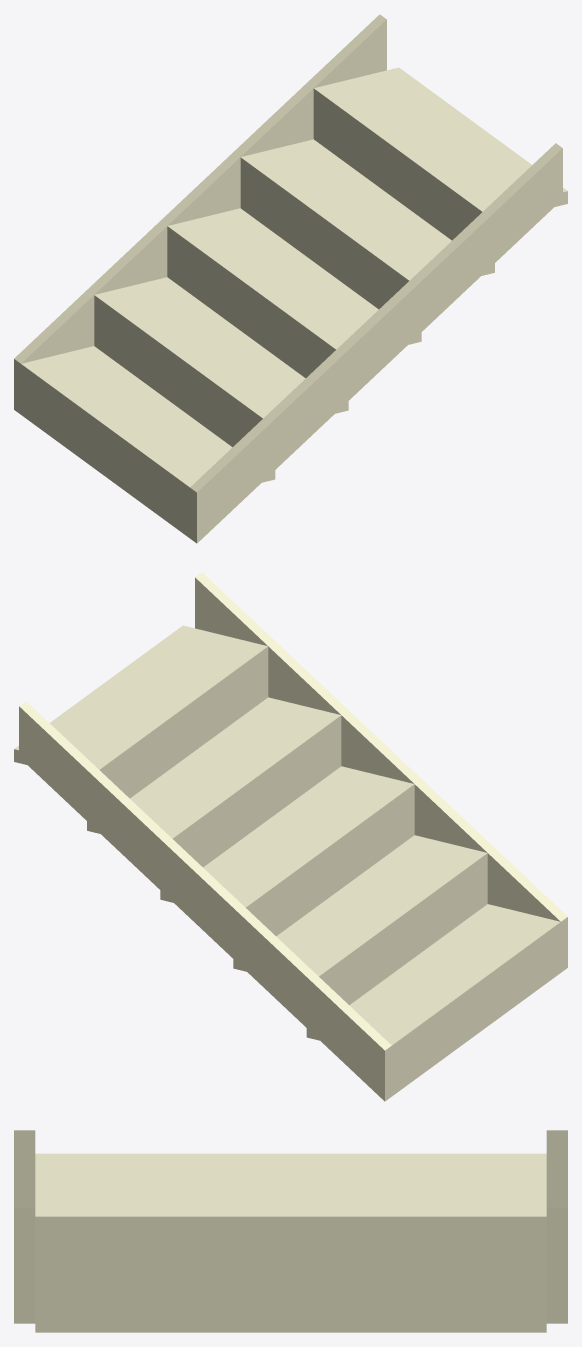
The model's file is Stairs_Box.glb.
3 renders of one model, top to bottom at view 1: azimuth 30°, elevation 25°; view 2: azimuth 150°, elevation 25°; view 3: azimuth 270°, elevation 25°, orthographic. The views are drawn at different scales.
Parts seen in each view (by area): view 1: Stairs Box; view 2: Stairs Box; view 3: Stairs Box.
Part boxes in pixels (x1,y1,x2,y2): Stairs Box: [14, 14, 567, 543]; Stairs Box: [14, 572, 567, 1101]; Stairs Box: [14, 1130, 567, 1332].
Bounding box in the file's own units: 1.55 × 1.2 × 1.3.
